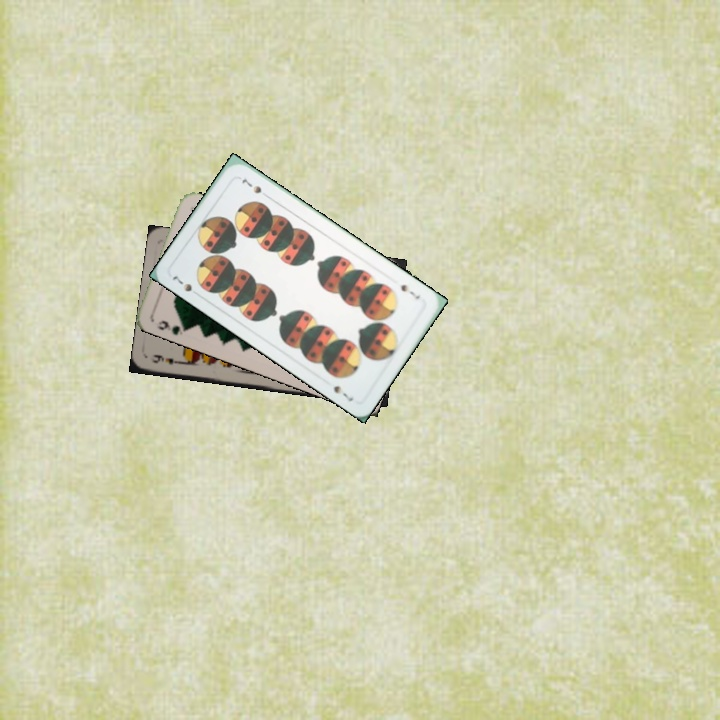E9: (146, 351, 186, 367)
G9: (153, 316, 191, 338)
S7: (168, 272, 195, 294), (396, 280, 423, 302)
